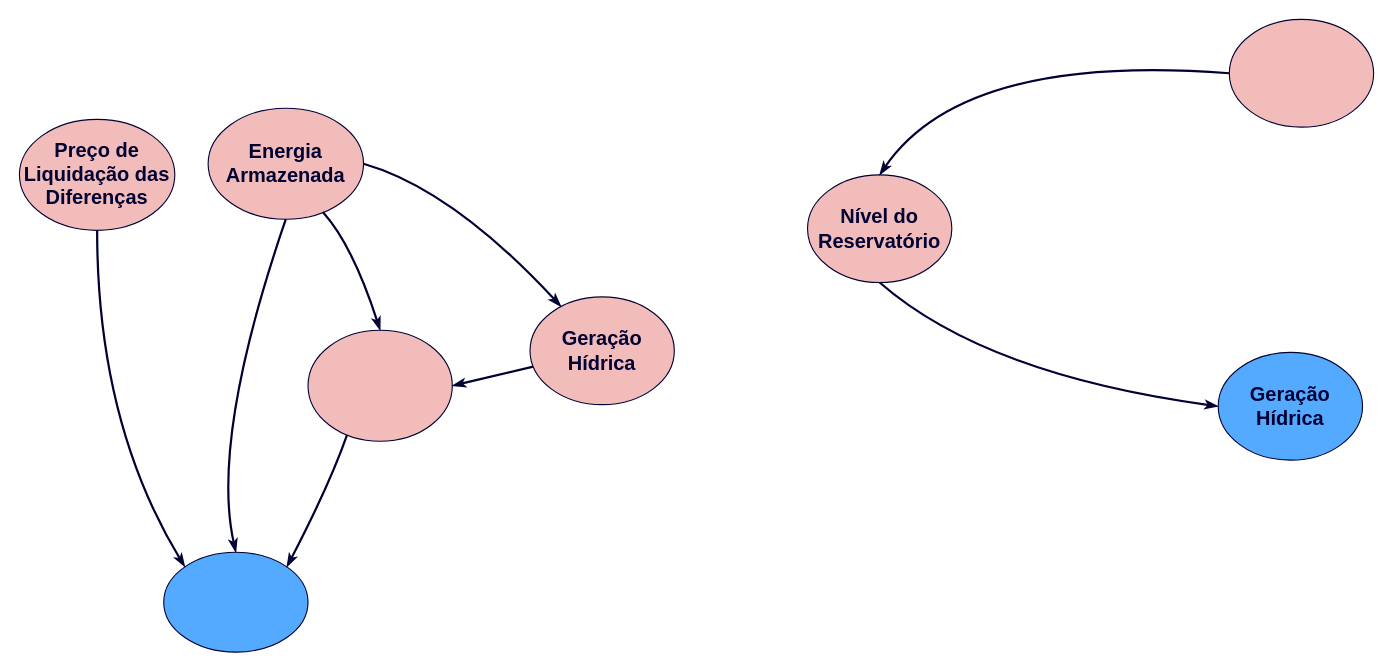
The diagram is 1393 pixels wide and 672 high, and some of its shapes have lost their labels. Each missing label, with the centre of its shape:
Geração Térmica: (379,385)
Nível de Precipitação: (1301,72)
Preço: (235,601)
